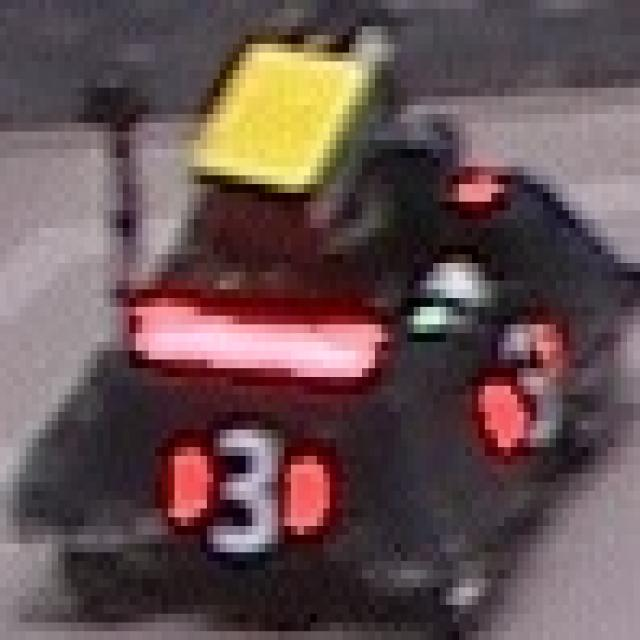R3: (168, 412, 330, 561), (478, 307, 569, 456)
